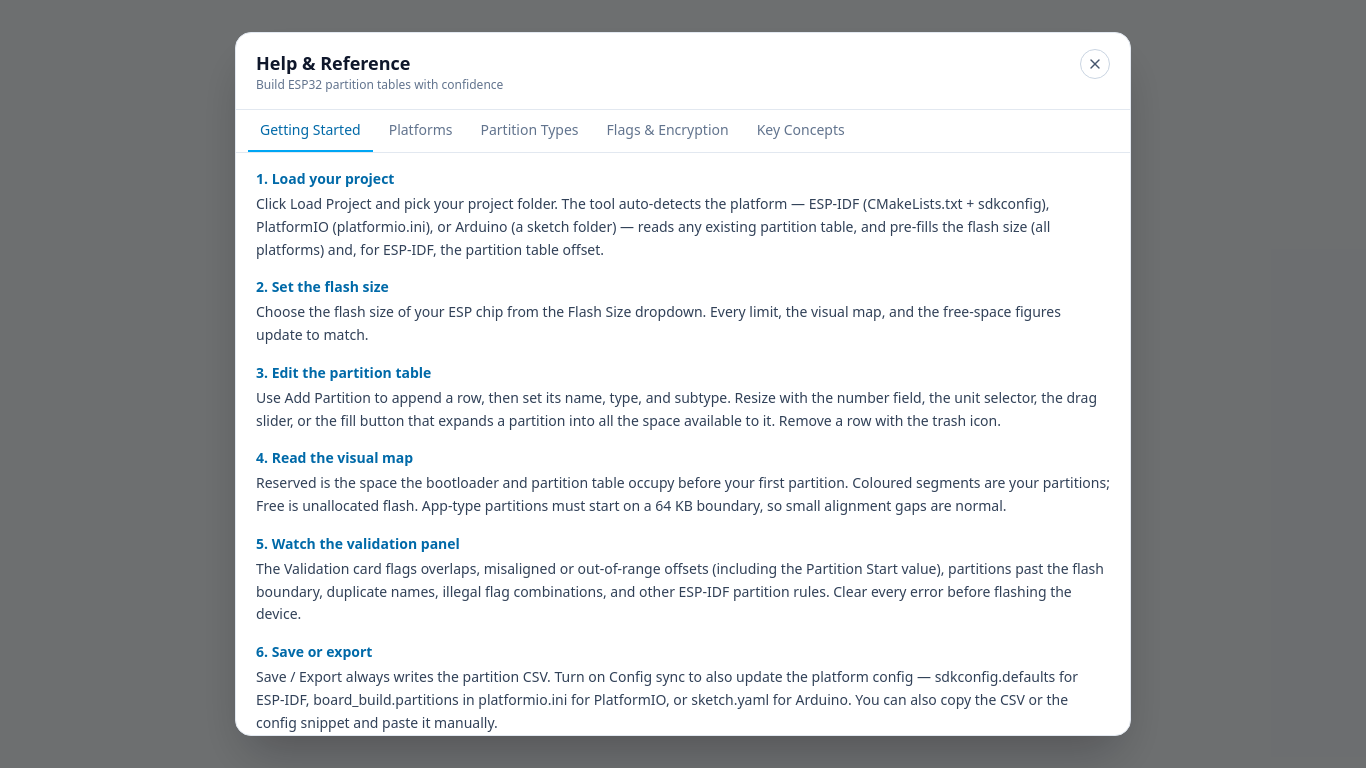
Test: HelpModal › switches to the Key Concepts tab and documents Advanced mode
The width and height of the screenshot is (1366, 768).
Click the tab "Key Concepts" at [801, 131], box [745,110,857,152]
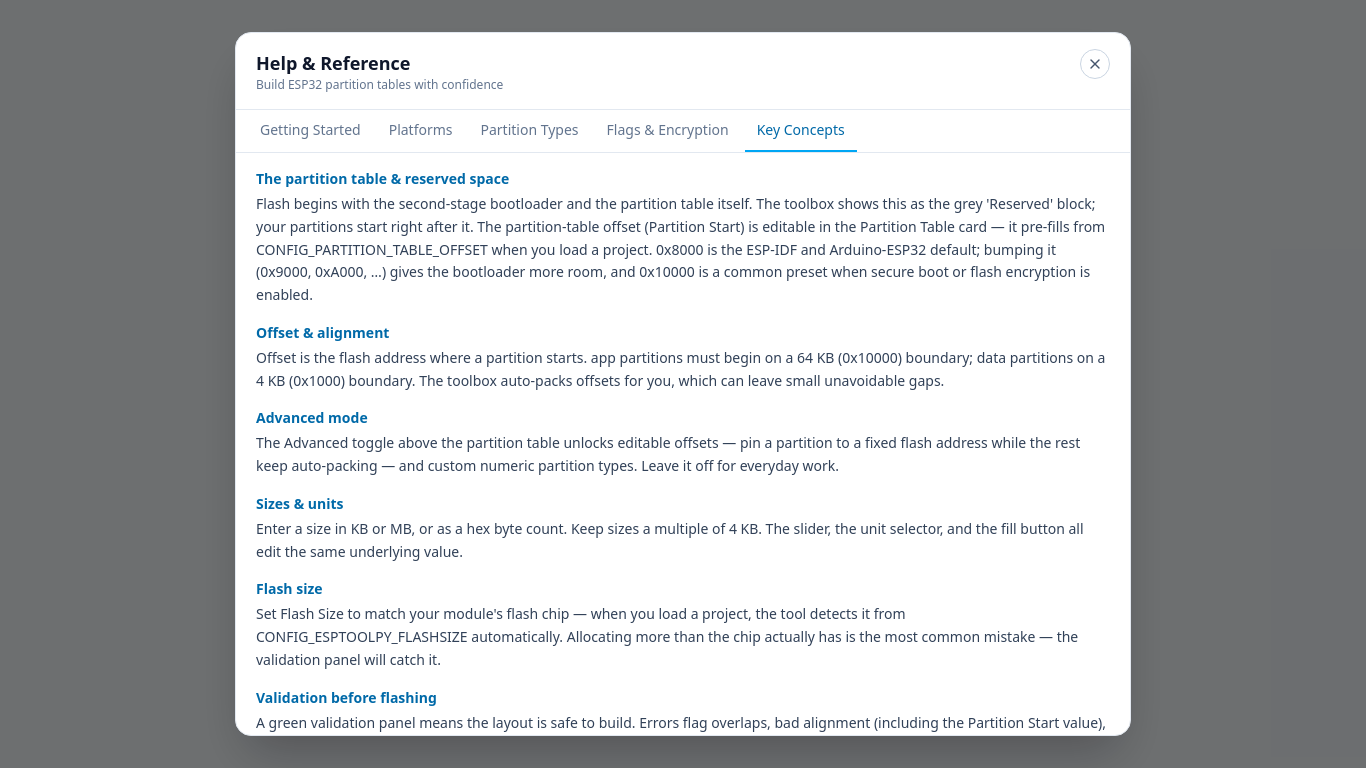
Result: the heading "Offset & alignment" is shown at [256,323,389,342]
Result: the heading "Advanced mode" is shown at [256,408,368,427]
